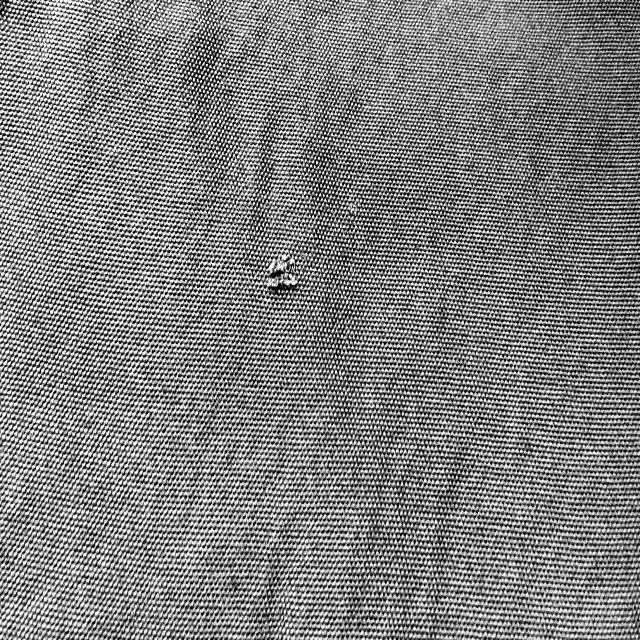Hole: (258, 252, 300, 310)
